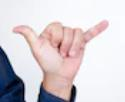clockwise: (10, 18, 112, 78)
